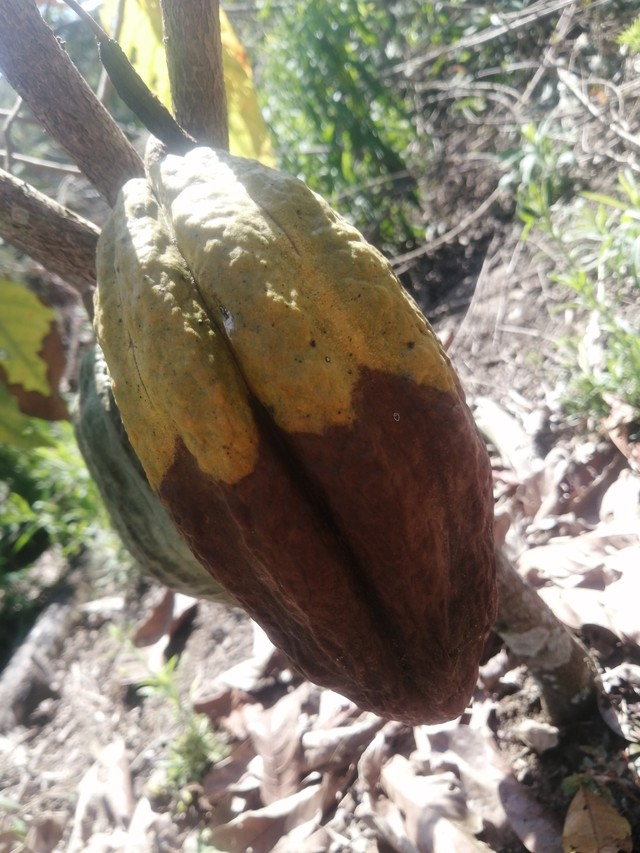phytophthora palmivora: (87, 138, 502, 735)
